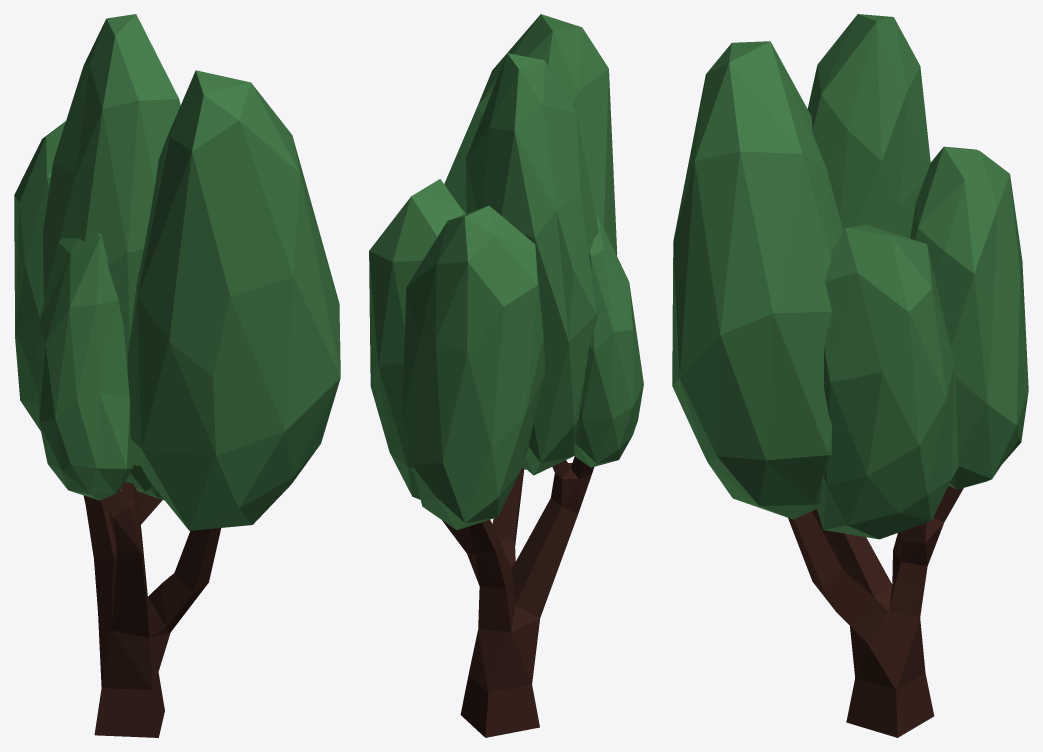
Rendered from Tree_1 Asia.fbx.
3 renders of one model, left to right at view 1: azimuth 30°, elevation 25°; view 2: azimuth 150°, elevation 25°; view 3: azimuth 270°, elevation 25°, orthographic. The views are drawn at different scales.
Parts seen in each view (by area): view 1: Tree_1; view 2: Tree_1; view 3: Tree_1.
Part boxes in pixels (bbox=[...]): Tree_1: bbox=[14, 14, 340, 737]; Tree_1: bbox=[369, 14, 643, 737]; Tree_1: bbox=[672, 14, 1028, 737].
Bounding box in the file's own units: 1.3 × 3.47 × 1.61.
